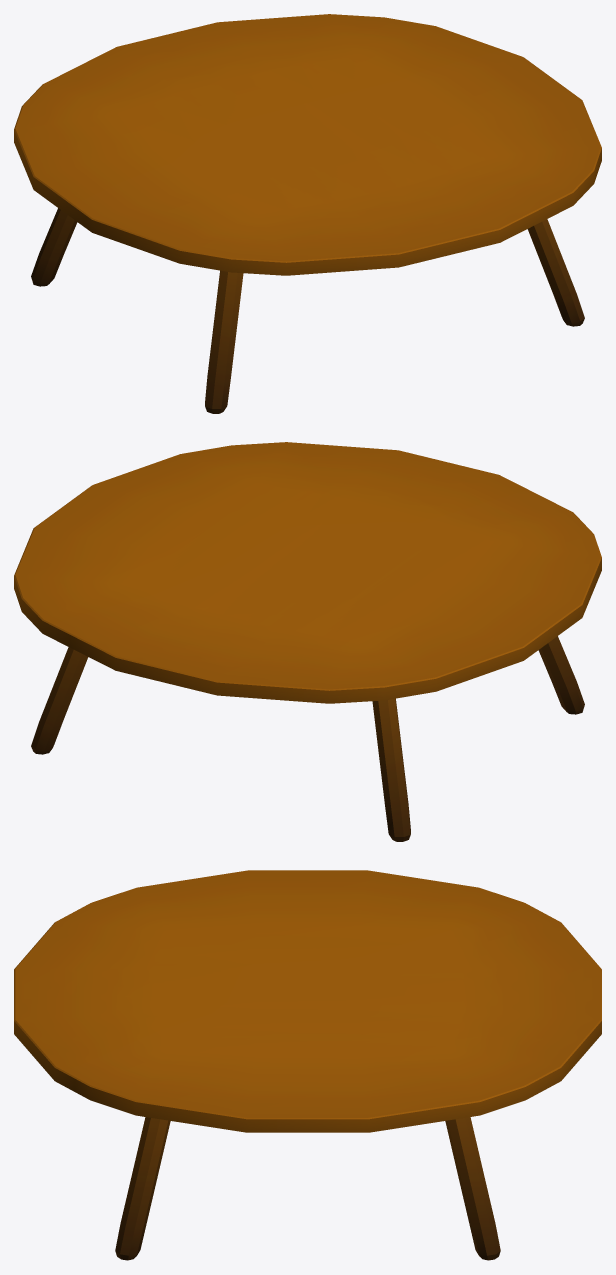
File: Mesa1.fbx
3 renders of one model, top to bottom at view 1: azimuth 30°, elevation 25°; view 2: azimuth 150°, elevation 25°; view 3: azimuth 270°, elevation 25°, orthographic. The views are drawn at different scales.
Parts seen in each view (by area): view 1: Mesa1.001; view 2: Mesa1.001; view 3: Mesa1.001.
Boxes of the visible parts, x1,y1,x2,y2 form: Mesa1.001: [14, 14, 601, 413]; Mesa1.001: [14, 442, 601, 841]; Mesa1.001: [14, 870, 601, 1260].
Bounding box in the file's own units: 6.45 × 2.13 × 6.45.
Materials: 1 (1 with a texture image).
